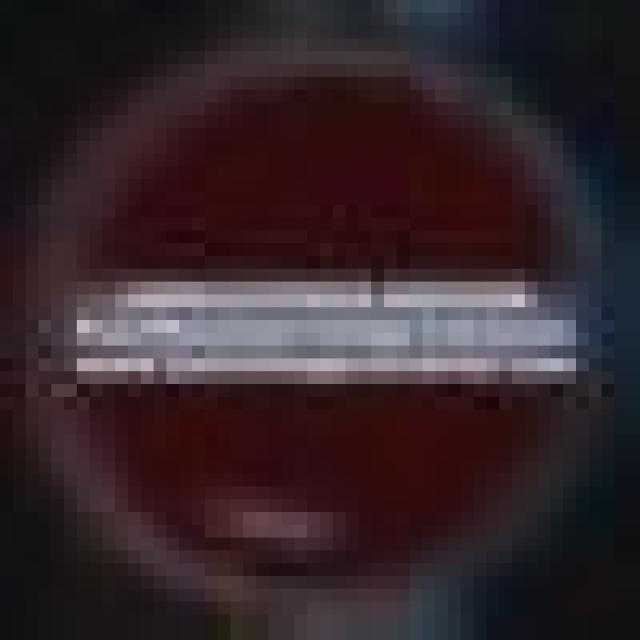NO_ENTRY: (13, 26, 627, 627)
